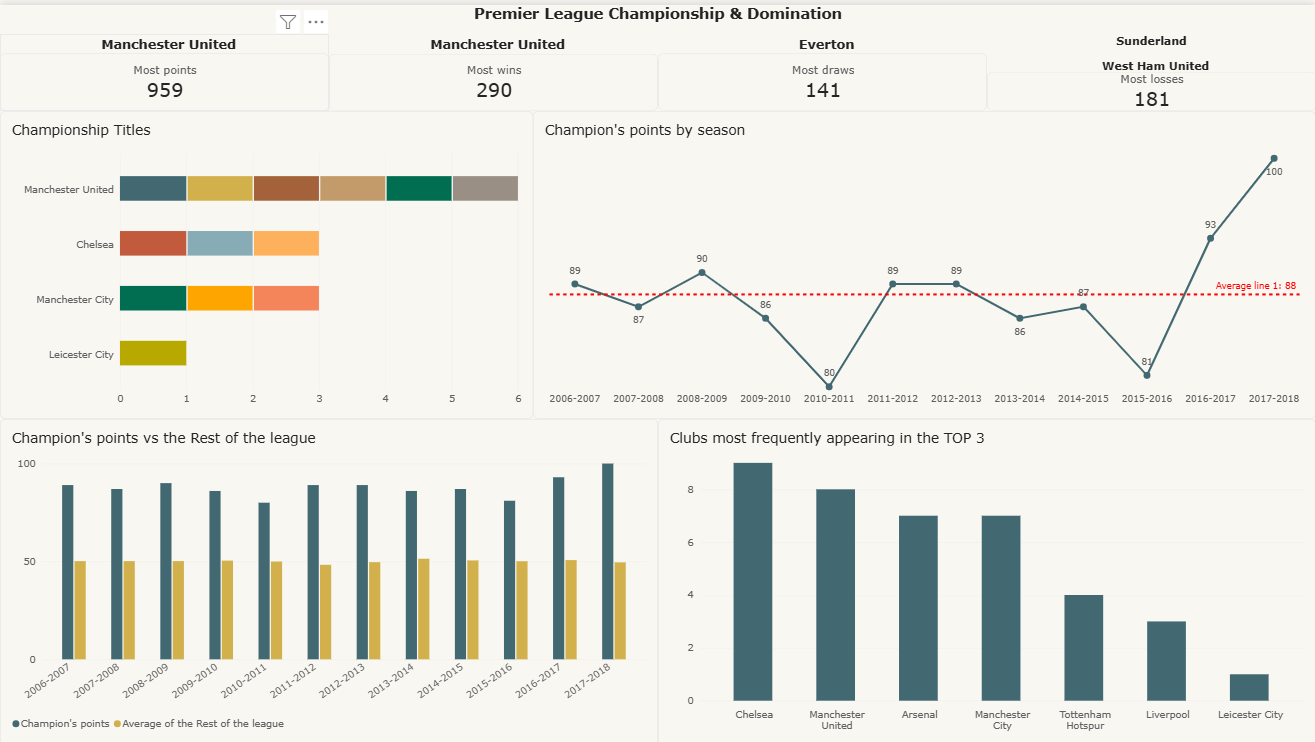

Layout of this report page (visuals, bound fields, positions):
{"tool":"powerbi","page":{"name":"PL - Championship and Domination","canvas":[1920,1080],"ordinal":3},"visuals":[{"type":"cardVisual","fields":{"Data":["public results.PKT"],"Rows":["public stats.team"]},"box":[0,42.3,480,112],"z":0},{"type":"textbox","box":[0,0,1920,42.3],"z":1000},{"type":"cardVisual","fields":{"Data":["Sum(public stats.wins)"],"Rows":["public stats.team"]},"box":[480,42.3,480,112.3],"z":2000},{"type":"cardVisual","fields":{"Rows":["public stats.team"],"Data":["public results.D"]},"box":[960,42.3,480,112],"z":3000},{"type":"cardVisual","title":"Sunderland ","fields":{"Data":["Sum(public stats.losses)"],"Rows":["public stats.team"]},"box":[1440.4,42,480,112.4],"z":4000},{"type":"barChart","title":"Championship Titles","fields":{"Category":["public stats.team"],"Y":["public results.Tytuły mistrzowskie"],"Series":["public results.season"]},"box":[0,154.7,777.6,449.4],"z":5000},{"type":"clusteredColumnChart","title":"Champion''s points vs the Rest of the league","fields":{"Category":["public results.season"],"Y":["public results.Punkty mistrza","public results.Średnia reszty ligi"]},"box":[0,604,960,475.6],"z":6000},{"type":"lineChart","title":"Champion''s points by season","fields":{"Category":["public results.season"],"Y":["public results.Punkty mistrza"]},"box":[777.6,154.7,1142.4,449.4],"z":7000},{"type":"columnChart","title":"Clubs most frequently appearing in the TOP 3","fields":{"Y":["public results.Top 3"],"Category":["public stats.team"]},"box":[960,604,960,476],"z":8000}]}

Visuals, with their boxes in screenshot pixels (x1, y1, x2, y2), scaled from the page's 1920x1080 canvas onto the 1315x742 screenshot:
cardVisual - public results.PKT x public stats.team: <box>0,29,329,106</box>
textbox: <box>0,0,1314,29</box>
cardVisual - Sum(public stats.wins) x public stats.team: <box>329,29,658,106</box>
cardVisual - public stats.team x public results.D: <box>658,29,986,106</box>
"Sunderland " cardVisual: <box>987,29,1314,106</box>
"Championship Titles" barChart: <box>0,106,533,415</box>
"Champion''s points vs the Rest of the league" clusteredColumnChart: <box>0,415,658,741</box>
"Champion''s points by season" lineChart: <box>533,106,1314,415</box>
"Clubs most frequently appearing in the TOP 3" columnChart: <box>658,415,1314,741</box>
